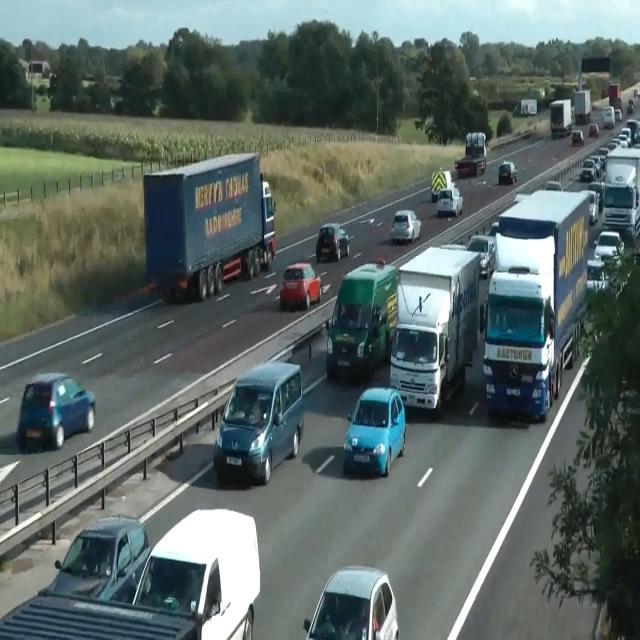bus: (38, 514, 152, 604), (303, 565, 399, 639), (16, 372, 96, 452), (343, 386, 406, 476), (280, 261, 322, 311), (316, 222, 350, 262), (466, 234, 496, 278), (594, 229, 624, 267), (390, 209, 421, 244), (586, 257, 608, 295), (437, 187, 463, 217), (454, 155, 486, 177), (580, 189, 598, 225), (498, 161, 518, 185), (588, 181, 604, 210), (579, 158, 597, 182), (544, 180, 562, 192), (513, 193, 529, 206), (572, 129, 584, 146), (489, 222, 499, 238), (589, 123, 599, 137), (626, 98, 634, 114), (614, 107, 622, 121)
car: (0, 505, 260, 639), (480, 268, 556, 422)
jeep: (213, 360, 304, 485)
minibus: (480, 188, 590, 422), (143, 151, 275, 303), (389, 244, 480, 418), (325, 259, 398, 382), (602, 147, 640, 239), (454, 131, 487, 177), (261, 179, 275, 269), (550, 98, 572, 138), (431, 169, 453, 202), (571, 89, 591, 124), (608, 83, 622, 121), (512, 99, 537, 117), (603, 105, 615, 128)
